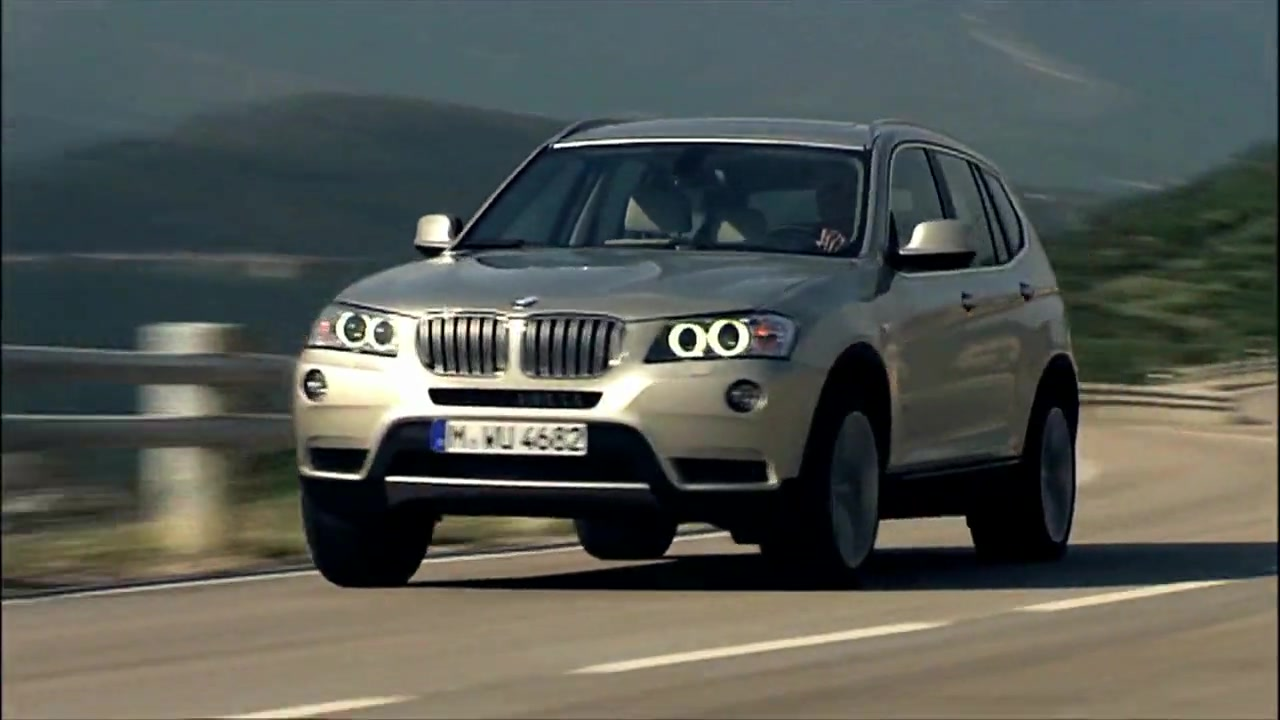car: (287, 103, 1090, 590)
